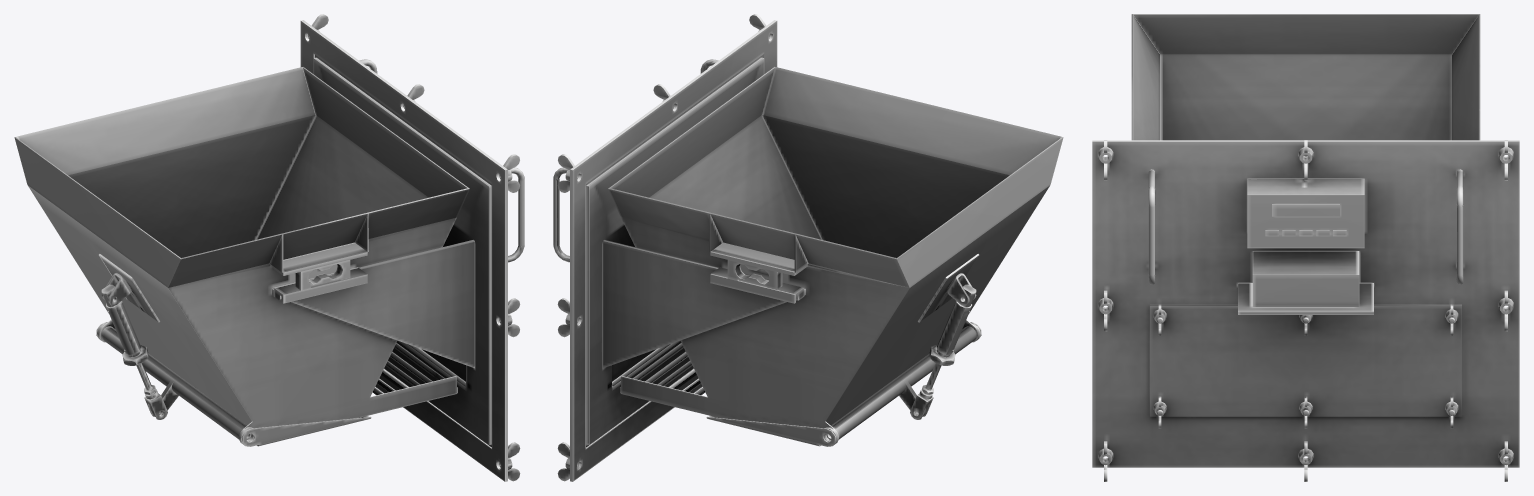
File: ScaleHopper.fbx
3 renders of one model, left to right at view 1: azimuth 30°, elevation 25°; view 2: azimuth 150°, elevation 25°; view 3: azimuth 270°, elevation 25°, orthographic. The views are drawn at different scales.
Visible parts, largest first — view 1: Scalehopper_Mayaexport:Solid2; view 2: Scalehopper_Mayaexport:Solid2; view 3: Scalehopper_Mayaexport:Solid2.
Boxes of the visible parts, x1,y1,x2,y2 form: Scalehopper_Mayaexport:Solid2: [14, 14, 524, 481]; Scalehopper_Mayaexport:Solid2: [553, 14, 1063, 481]; Scalehopper_Mayaexport:Solid2: [1092, 14, 1519, 481].
Size of what is drawn, in the model's own units: 6.48 by 5.53 by 6.3.
Materials: 1 (1 with a texture image).
